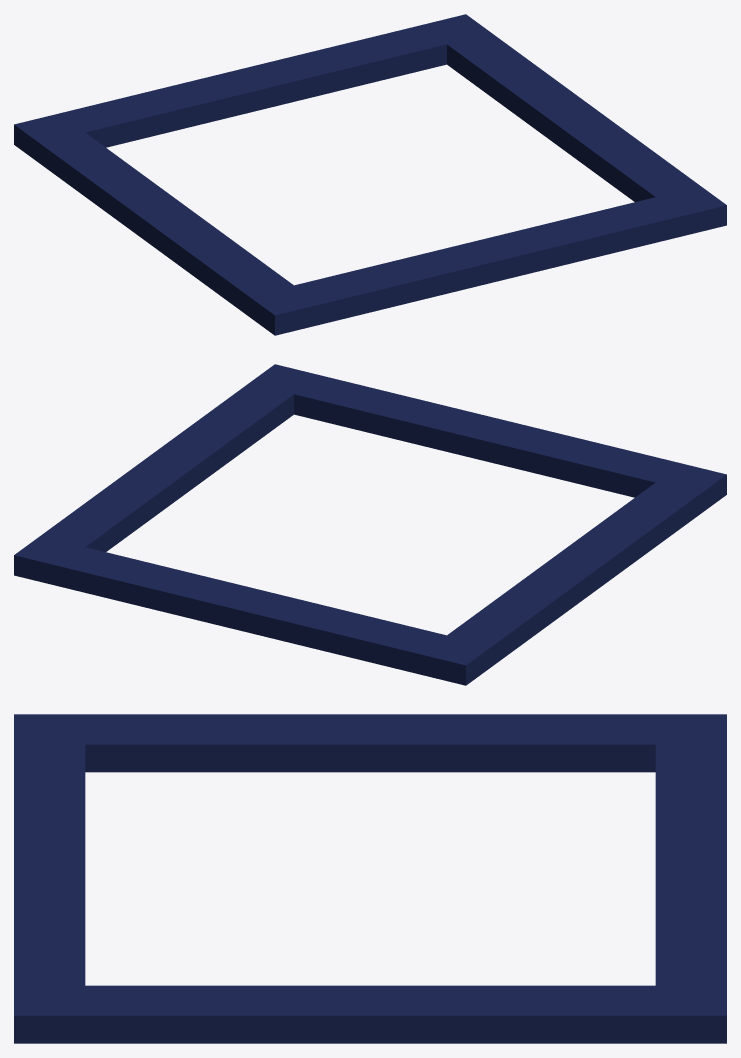
The model's file is tileSquare.glb.
The picture shows the model from 3 angles, top to bottom: view 1: azimuth 30°, elevation 25°; view 2: azimuth 150°, elevation 25°; view 3: azimuth 270°, elevation 25°; orthographic projection. The views are drawn at different scales.
Parts seen in each view (by area): view 1: Plane.003; view 2: Plane.003; view 3: Plane.003.
Boxes of the visible parts, box(x1,y1,x2,y2) form: Plane.003: box(14, 14, 726, 335); Plane.003: box(14, 364, 726, 685); Plane.003: box(14, 714, 726, 1043).
Bounding box in the file's own units: 0.7 × 0.03 × 0.7.
1 material, 1 textured.
